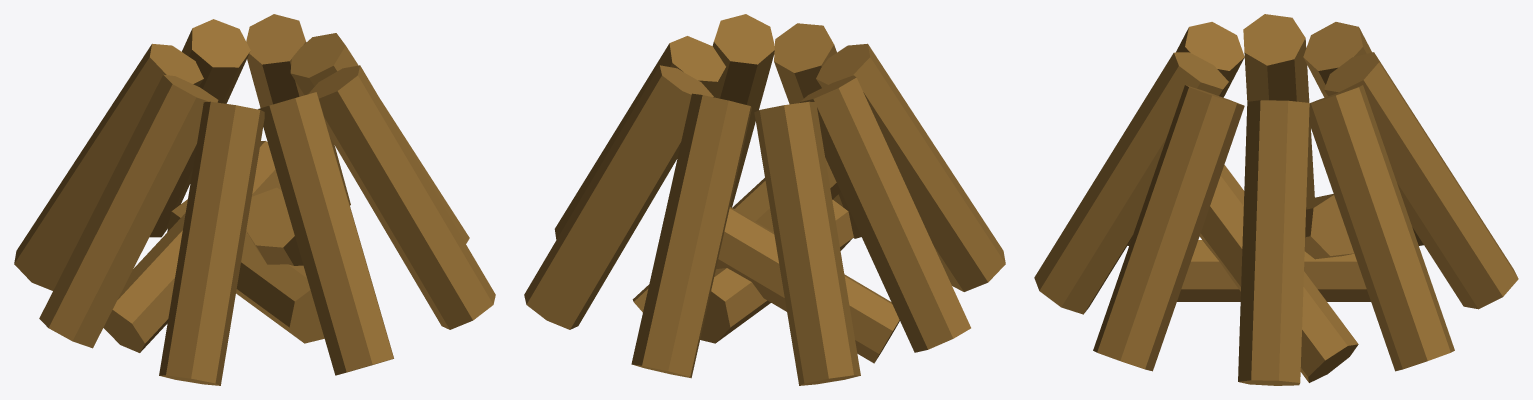
File: Fogata.fbx
The picture shows the model from 3 angles, left to right: view 1: azimuth 30°, elevation 25°; view 2: azimuth 150°, elevation 25°; view 3: azimuth 270°, elevation 25°; orthographic projection.
Parts seen in each view (by area): view 1: Cylinder, Cylinder.001, Cylinder.004, Cylinder.002, Cylinder.003; view 2: Cylinder, Cylinder.001, Cylinder.004, Cylinder.002, Cylinder.003; view 3: Cylinder.001, Cylinder, Cylinder.003, Cylinder.002, Cylinder.004.
Boxes of the visible parts, x1,y1,x2,y2 form: Cylinder: (14,14,495,385); Cylinder.001: (39,19,469,375); Cylinder.004: (103,141,281,352); Cylinder.002: (167,199,324,343); Cylinder.003: (246,187,303,265); Cylinder: (524,14,1005,385); Cylinder.001: (554,23,970,378); Cylinder.004: (716,207,899,363); Cylinder.002: (700,199,853,343); Cylinder.003: (632,158,840,312); Cylinder.001: (1034,14,1518,385); Cylinder: (1093,22,1454,371); Cylinder.003: (1199,165,1358,382); Cylinder.002: (1177,240,1370,301); Cylinder.004: (1304,194,1354,259).
Bounding box in the file's own units: 1489 × 968 × 1489.
